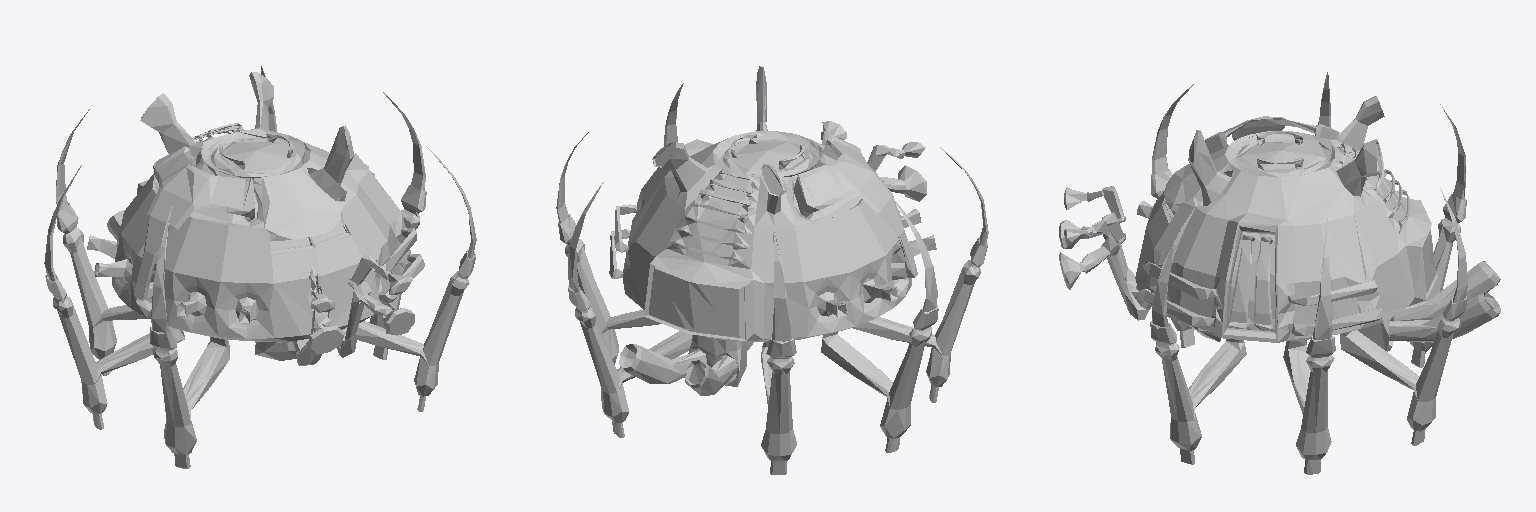
Rendered from drone.obj.
3 renders of one model, left to right at view 1: azimuth 30°, elevation 25°; view 2: azimuth 150°, elevation 25°; view 3: azimuth 270°, elevation 25°, orthographic.
Parts seen in each view (by area): view 1: drone; view 2: drone; view 3: drone.
Part boxes in pixels (bbox=[...]): drone: bbox=[44, 66, 476, 468]; drone: bbox=[556, 66, 988, 474]; drone: bbox=[1059, 72, 1500, 474].
Size of the model in its own units: 20.36 by 15.38 by 20.76.